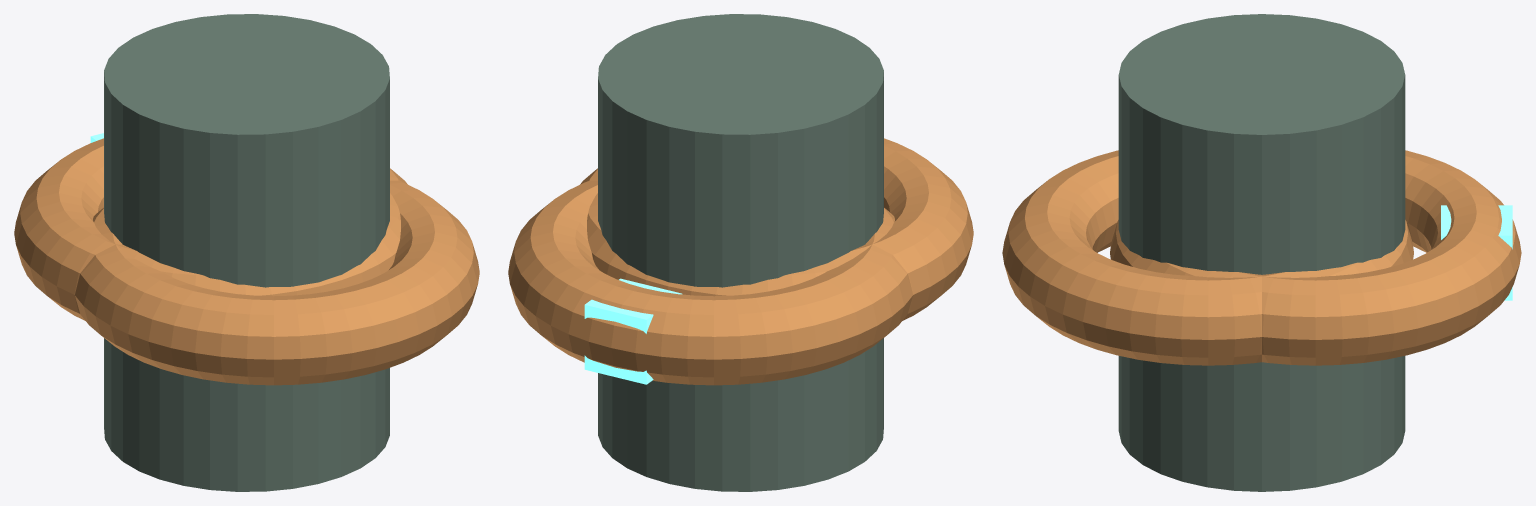
The model's file is generator_part_relay.glb.
3 views of the same model, side by side, from view 1: azimuth 30°, elevation 25°; view 2: azimuth 150°, elevation 25°; view 3: azimuth 270°, elevation 25° (orthographic).
Visible parts, largest first — view 1: Cylinder, Torus, Torus.001; view 2: Cylinder, Torus.001, Torus, Cube; view 3: Cylinder, Torus, Torus.001, Cube.
Part boxes in pixels (left/top/right/bottom): Cylinder: left=104, top=14, right=389, bottom=491; Torus: left=75, top=180, right=479, bottom=385; Torus.001: left=14, top=138, right=407, bottom=320; Cylinder: left=598, top=14, right=883, bottom=491; Torus.001: left=508, top=180, right=912, bottom=385; Torus: left=580, top=138, right=973, bottom=320; Cube: left=584, top=278, right=682, bottom=384; Cylinder: left=1118, top=14, right=1405, bottom=491; Torus: left=1002, top=150, right=1413, bottom=365; Torus.001: left=1110, top=150, right=1521, bottom=365; Cube: left=1441, top=205, right=1512, bottom=300.
Size of the model in its own units: 0.23 by 0.22 by 0.29.
